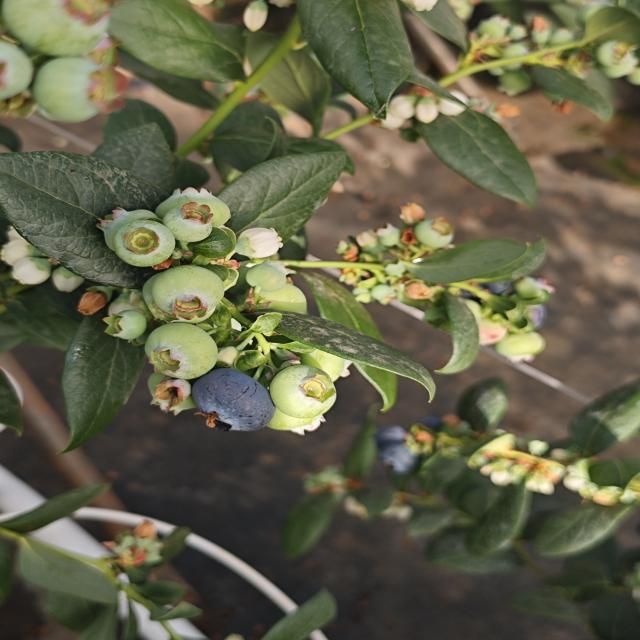ripe: (195, 365, 274, 435), (368, 416, 424, 474), (461, 277, 512, 306), (508, 302, 547, 337)
